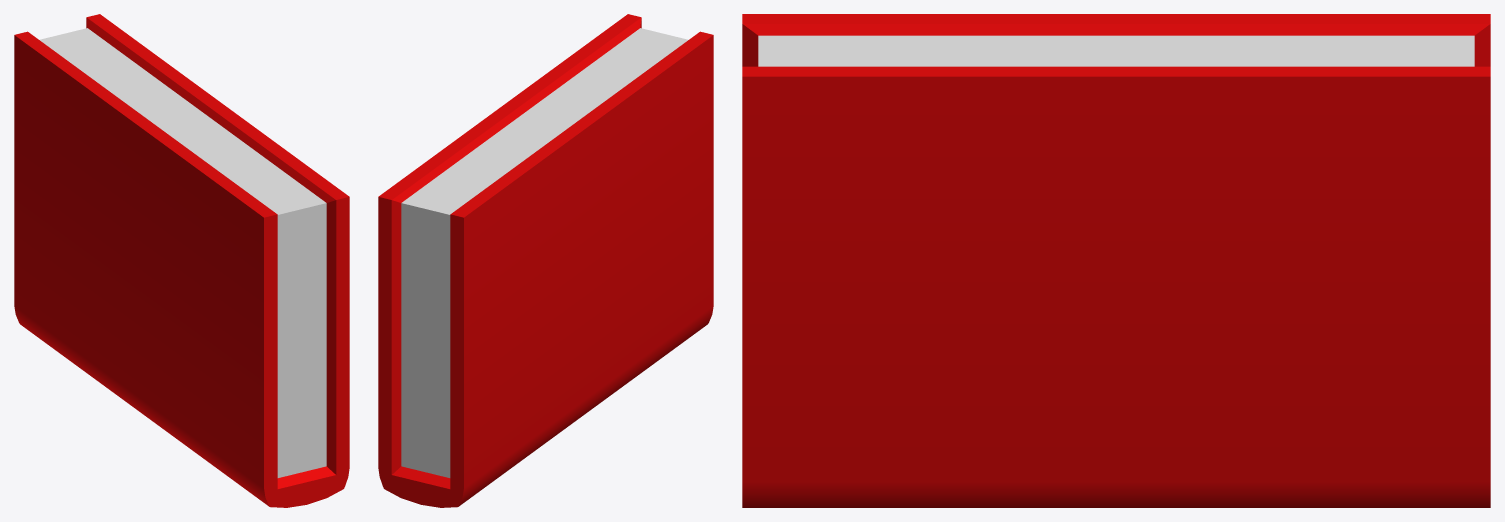
The model's file is book.fbx.
3 views of the same model, side by side, from view 1: azimuth 30°, elevation 25°; view 2: azimuth 150°, elevation 25°; view 3: azimuth 270°, elevation 25° (orthographic). The views are drawn at different scales.
Visible parts, largest first — view 1: Cube; view 2: Cube; view 3: Cube.
Part boxes in pixels (x1=…): Cube: x1=14, y1=14, x2=349, y2=507; Cube: x1=378, y1=14, x2=713, y2=507; Cube: x1=742, y1=14, x2=1490, y2=507.
Size of the model in its own units: 14.68 by 48.72 by 74.09.
